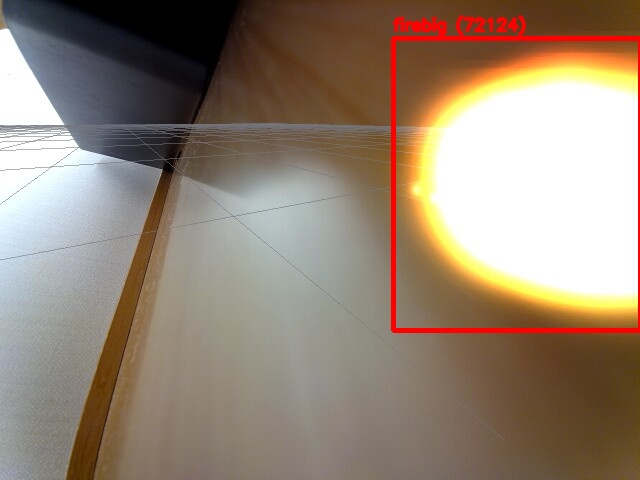firebig: (393, 38, 640, 330)
